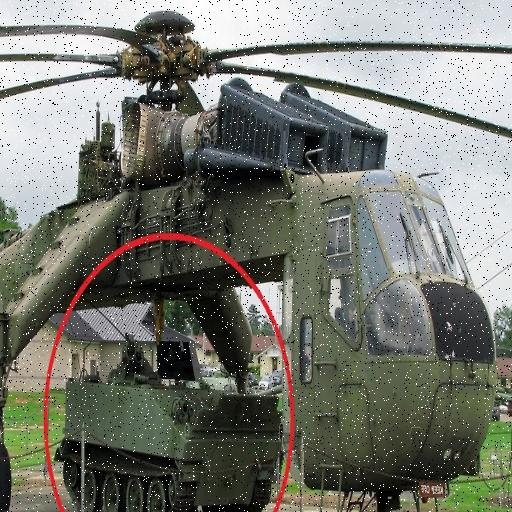helicopter: (1, 1, 512, 501)
